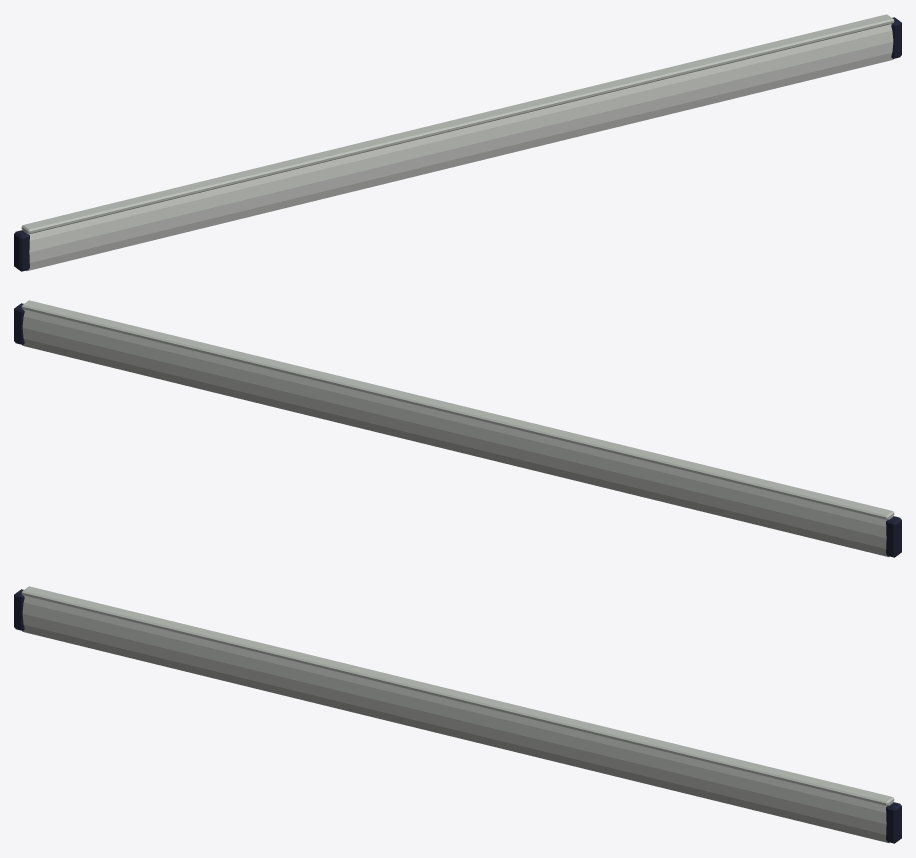
The model's file is sm_env_depot_door_slat.glb.
3 views of the same model, one above another, from view 1: azimuth 30°, elevation 25°; view 2: azimuth 150°, elevation 25°; view 3: azimuth 330°, elevation 25° (orthographic).
Parts seen in each view (by area): view 1: Slat, SlatRib, SlatShoe; view 2: Slat, SlatRib, SlatShoe; view 3: Slat, SlatRib, SlatShoe.001.
Boxes of the visible parts, box(x1,y1,x2,y2) form: Slat: box(22, 24, 893, 270); SlatRib: box(21, 14, 894, 234); SlatShoe: box(14, 230, 29, 271); Slat: box(22, 310, 893, 556); SlatRib: box(21, 300, 894, 520); SlatShoe: box(886, 516, 901, 557); Slat: box(22, 596, 893, 842); SlatRib: box(21, 586, 894, 806); SlatShoe.001: box(886, 802, 901, 843).
Bounding box in the file's own units: 6.64 × 0.3025 × 0.1.
